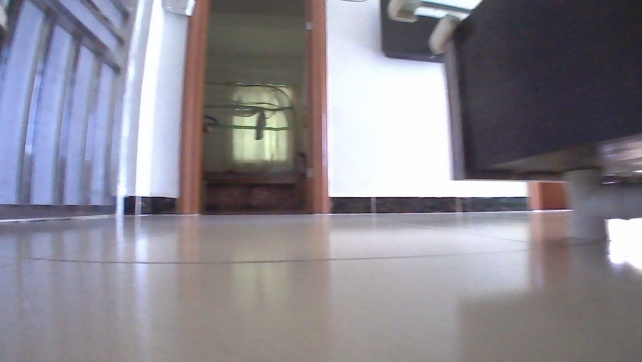bed1: (201, 149, 305, 208)
